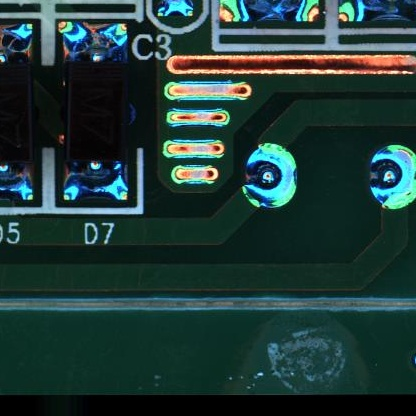spot: (242, 143, 299, 211), (366, 143, 416, 208)
